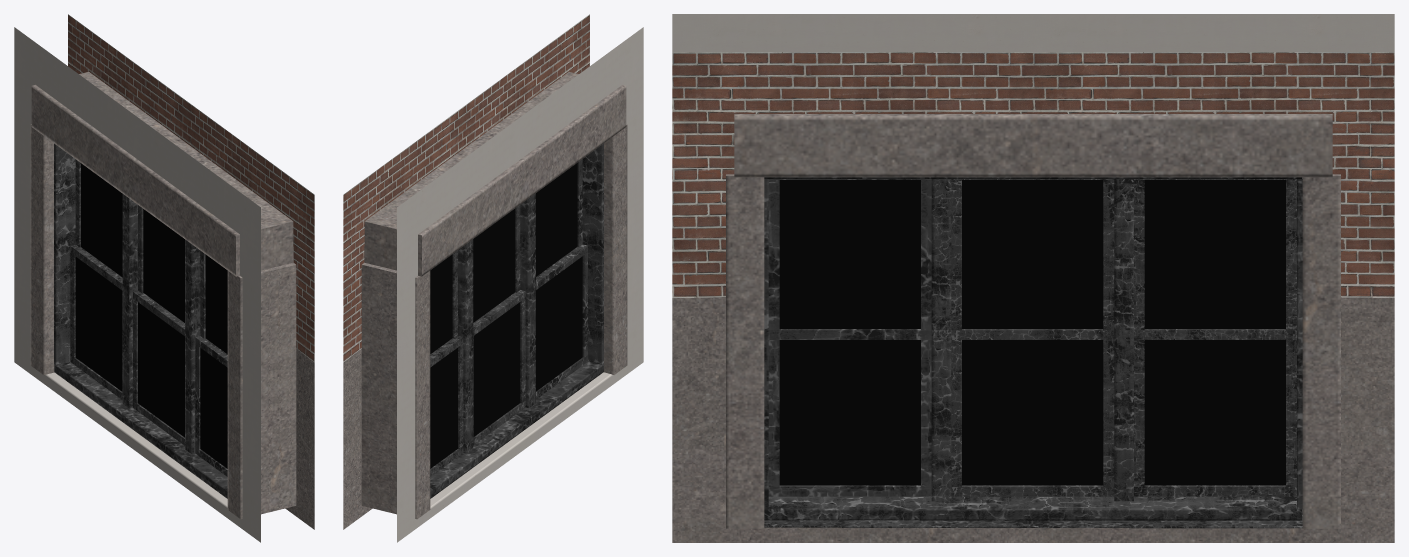
File: BuildingB_Bottom_Wall_VarA_mdl.fbx
3 views of the same model, side by side, from view 1: azimuth 30°, elevation 25°; view 2: azimuth 150°, elevation 25°; view 3: azimuth 270°, elevation 25° (orthographic). The views are drawn at different scales.
Visible parts, largest first — view 1: BuildingB_Bottom_Wall_VarA_LOD0; view 2: BuildingB_Bottom_Wall_VarA_LOD0; view 3: BuildingB_Bottom_Wall_VarA_LOD0.
Part boxes in pixels (x1,y1,x2,y2): BuildingB_Bottom_Wall_VarA_LOD0: (14, 14, 314, 542); BuildingB_Bottom_Wall_VarA_LOD0: (343, 14, 643, 542); BuildingB_Bottom_Wall_VarA_LOD0: (672, 14, 1394, 542).
Size of what is drawn, in the model's own units: 57.29 by 300 by 400.
